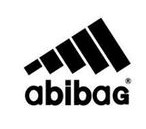adidas Fake: (20, 16, 132, 107)
